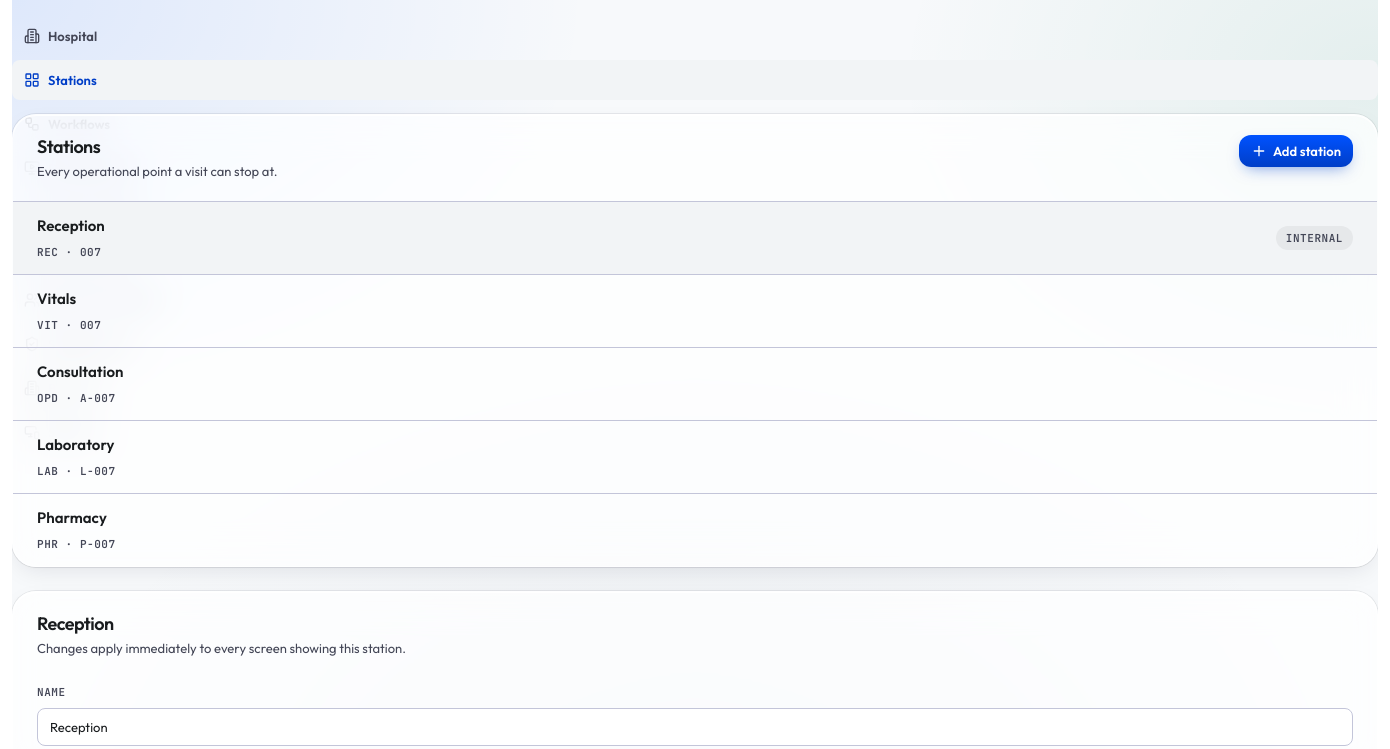
Administration Portal › lists every station with a live ticket preview
(page scrolled)
Expected: the text "Reception" is shown, [37,216,105,235]
Expected: the text "Vitals" is shown, [37,289,76,308]
Click the button "Consultation OPD · A-007": point(80, 372) [13,348,1377,420]
(page scrolled)
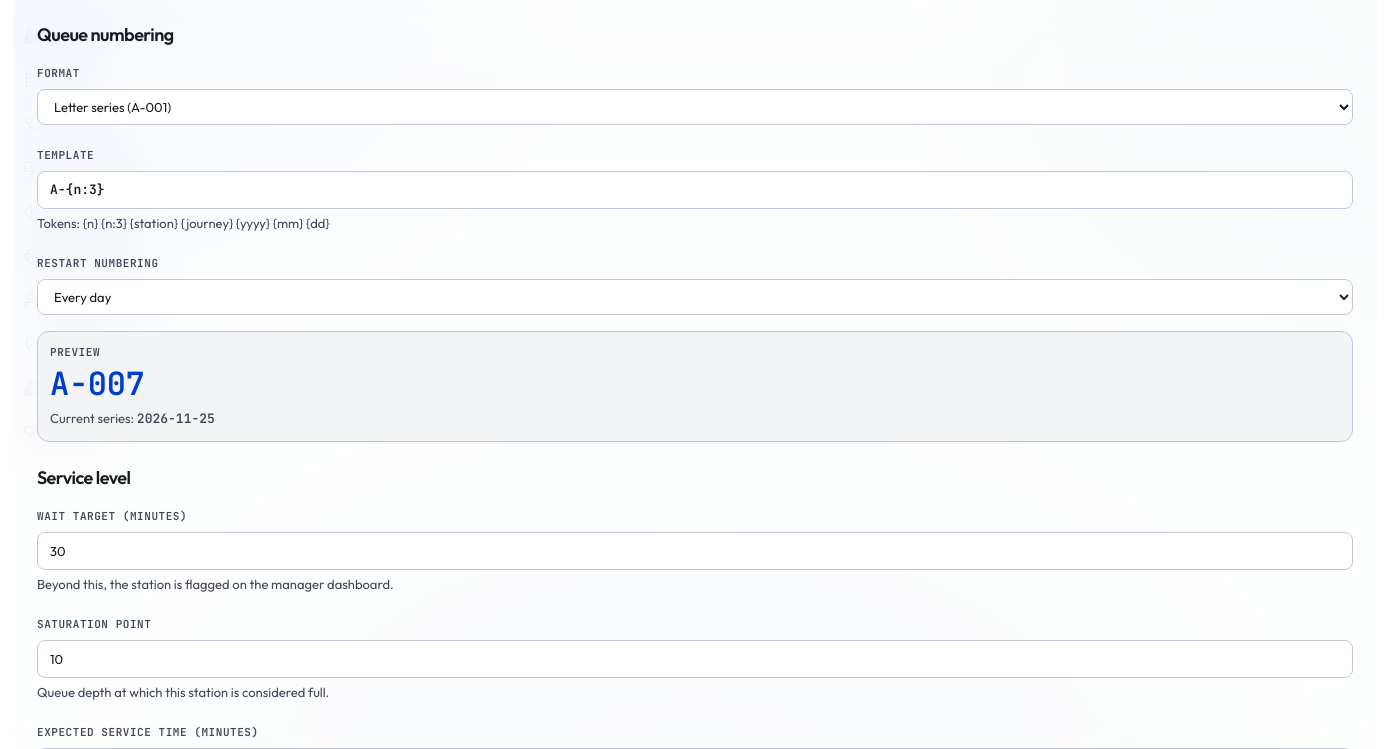
Result: the text named "Ticket preview" reads "A-007" at [50,362,144,405]
